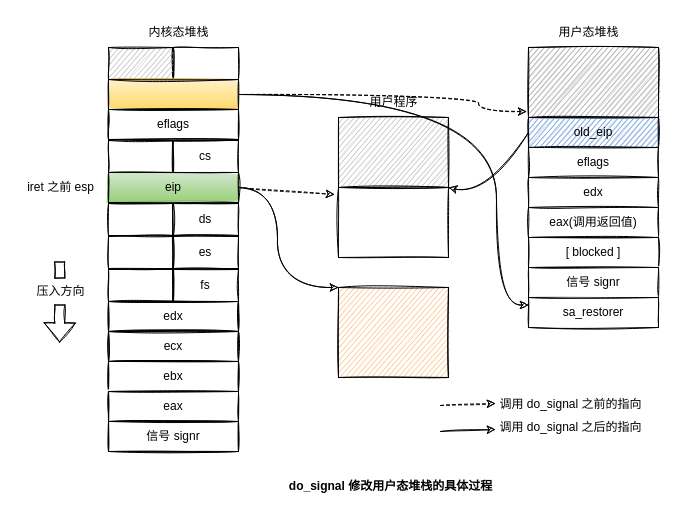
This 676x516 diagram has some shape labels left out. The shapes that lost their labels are listed below. From the top down, each one's box as (x1, y1, x2, y2) in pixels, then its label:
(108, 78, 238, 110): 原 esp
(338, 116, 448, 188): 已执行代码
(338, 186, 448, 258): 即将执行代码
(338, 286, 448, 378): 信号处理程序
